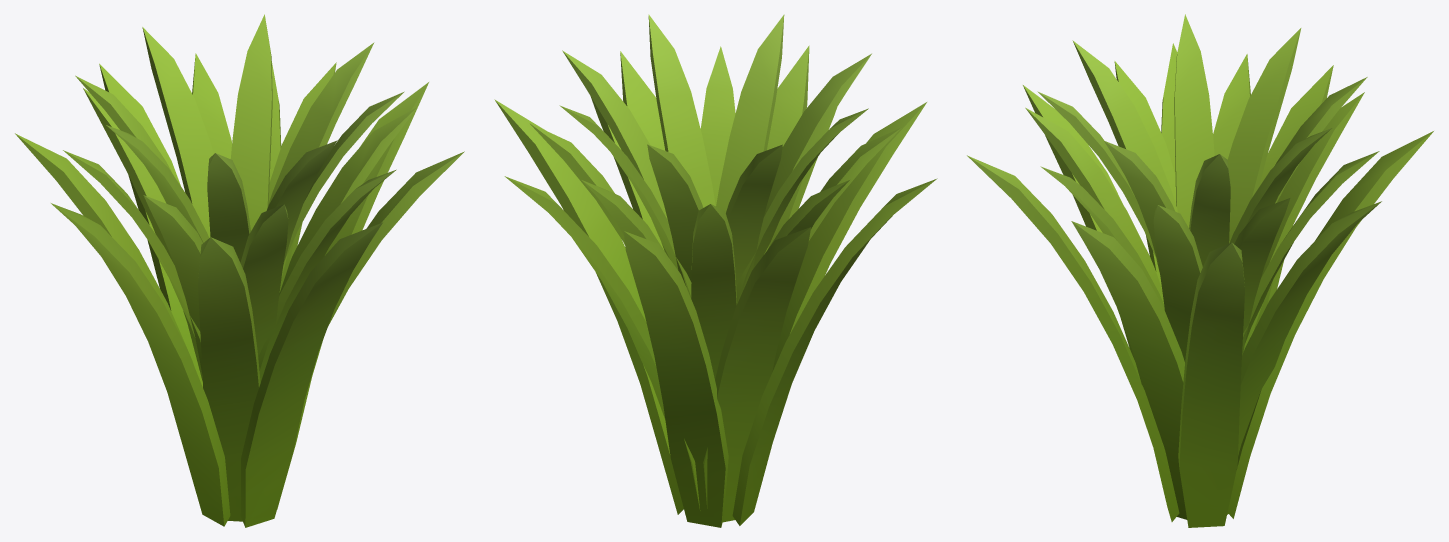
The model's file is plante_sol.fbx.
3 renders of one model, left to right at view 1: azimuth 30°, elevation 25°; view 2: azimuth 150°, elevation 25°; view 3: azimuth 270°, elevation 25°, orthographic.
Visible parts, largest first — view 1: Arbustos.003; view 2: Arbustos.003; view 3: Arbustos.003.
Boxes of the visible parts, left/top/right/bottom form: Arbustos.003: left=15, top=14, right=464, bottom=527; Arbustos.003: left=494, top=14, right=937, bottom=527; Arbustos.003: left=967, top=14, right=1433, bottom=527.
Bounding box in the file's own units: 139 × 139 × 138.
